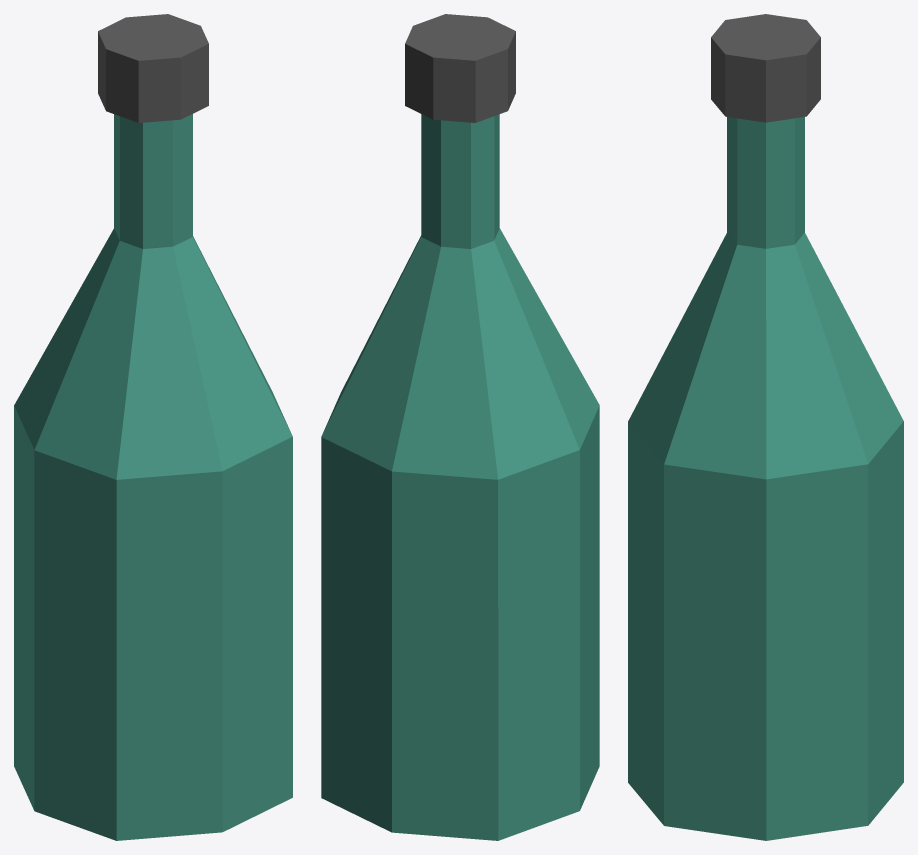
File: Bottle_31.fbx
The picture shows the model from 3 angles, left to right: view 1: azimuth 30°, elevation 25°; view 2: azimuth 150°, elevation 25°; view 3: azimuth 270°, elevation 25°; orthographic projection.
Visible parts, largest first — view 1: Bottle_31; view 2: Bottle_31; view 3: Bottle_31.
Boxes of the visible parts, x1,y1,x2,y2 form: Bottle_31: (14,14,292,840); Bottle_31: (321,14,599,840); Bottle_31: (628,14,903,840).
Size of the model in its own units: 17.01 by 17.01 by 50.75.
